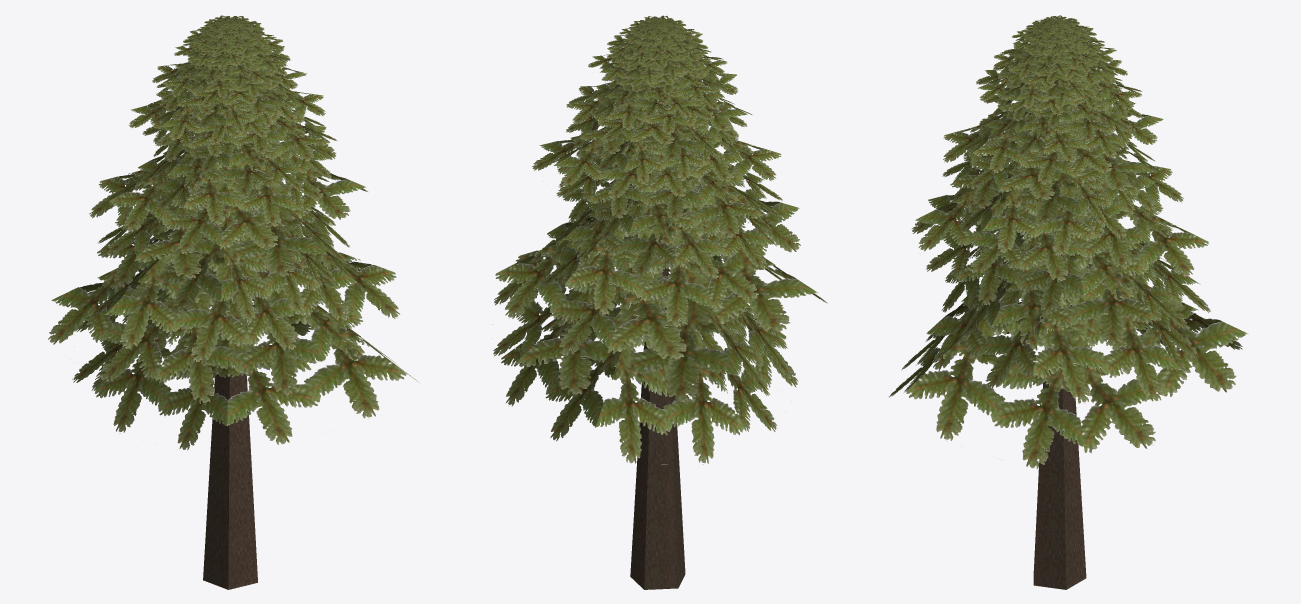
Rendered from tree3.glb.
3 renders of one model, left to right at view 1: azimuth 30°, elevation 25°; view 2: azimuth 150°, elevation 25°; view 3: azimuth 270°, elevation 25°, orthographic.
Visible parts, largest first — view 1: Tree4; view 2: Tree4; view 3: Tree4.
Boxes of the visible parts, x1,y1,x2,y2 form: Tree4: [48, 15, 417, 589]; Tree4: [492, 15, 827, 589]; Tree4: [889, 15, 1248, 589].
Size of the model in its own units: 6.95 by 10.52 by 7.01.
2 materials, 2 textured.
